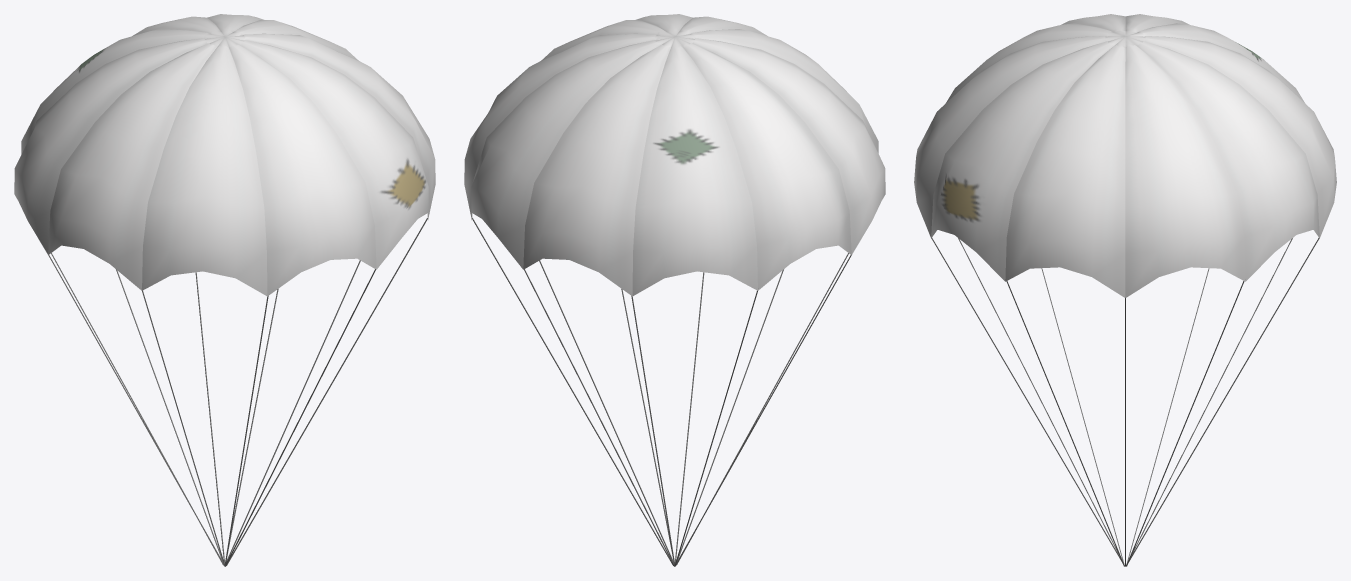
The model's file is parringshoot_final_fbx.fbx.
3 renders of one model, left to right at view 1: azimuth 30°, elevation 25°; view 2: azimuth 150°, elevation 25°; view 3: azimuth 270°, elevation 25°, orthographic.
Visible parts, largest first — view 1: polySurface2; view 2: polySurface2; view 3: polySurface2.
Boxes of the visible parts, x1,y1,x2,y2 form: polySurface2: [14, 14, 435, 566]; polySurface2: [464, 14, 885, 566]; polySurface2: [914, 14, 1336, 566].
Size of the model in its own units: 4.74 by 6.65 by 4.8.
Materials: 2 (1 with a texture image).
